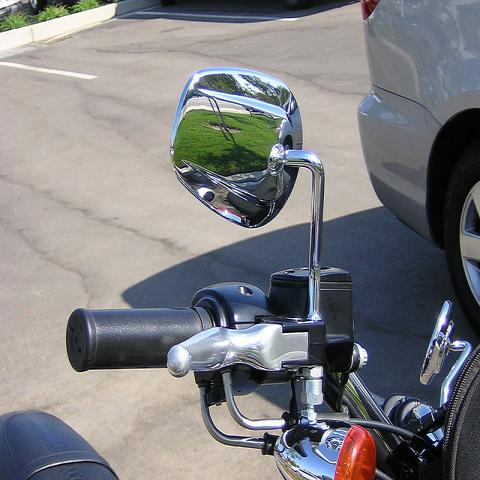car: (356, 0, 479, 329)
motorcycle: (0, 67, 479, 476)
